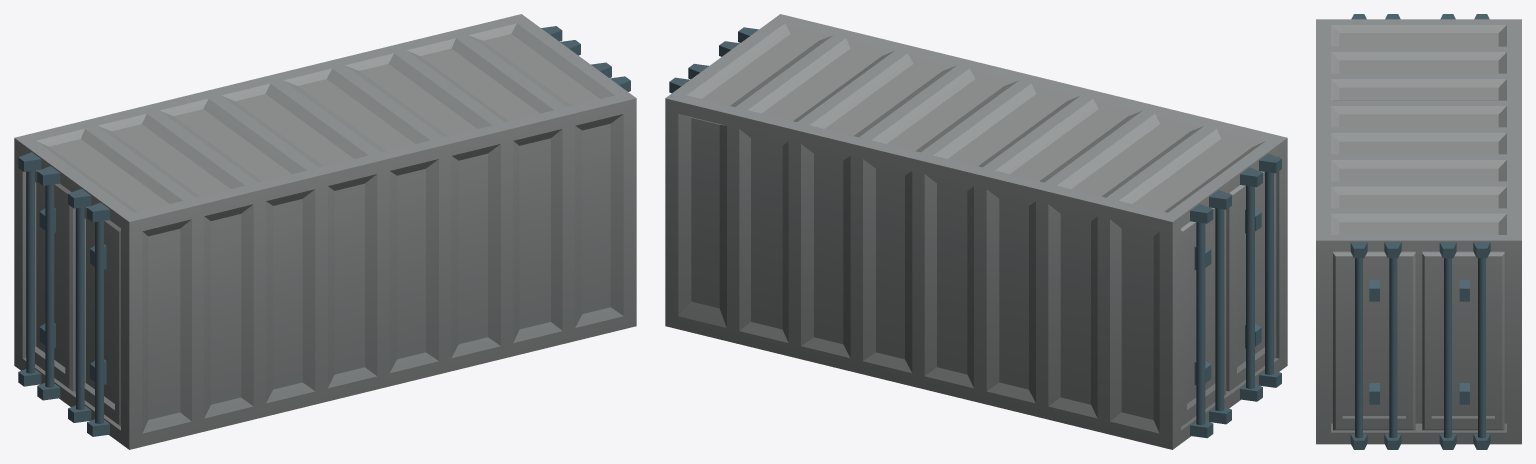
The model's file is CC_Grey.fbx.
3 renders of one model, left to right at view 1: azimuth 30°, elevation 25°; view 2: azimuth 150°, elevation 25°; view 3: azimuth 270°, elevation 25°, orthographic. The views are drawn at different scales.
Visible parts, largest first — view 1: CC_Grey; view 2: CC_Grey; view 3: CC_Grey.
Boxes of the visible parts, x1,y1,x2,y2 form: CC_Grey: [14, 14, 636, 449]; CC_Grey: [665, 14, 1287, 449]; CC_Grey: [1316, 14, 1521, 449].
Size of the model in its own units: 648 by 262 by 240.
